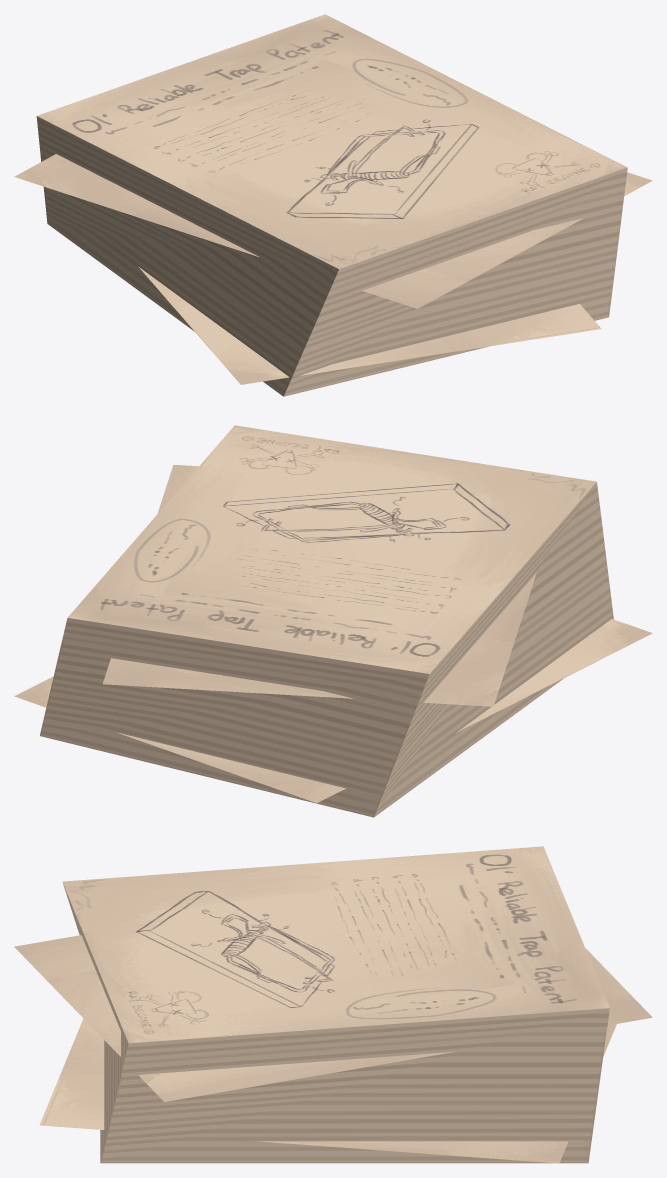
The model's file is paperStack_UVs.fbx.
3 views of the same model, one above another, from view 1: azimuth 30°, elevation 25°; view 2: azimuth 150°, elevation 25°; view 3: azimuth 270°, elevation 25° (orthographic). The views are drawn at different scales.
Visible parts, largest first — view 1: Paper_Stack; view 2: Paper_Stack; view 3: Paper_Stack.
Part boxes in pixels (left/top/right/bottom): Paper_Stack: left=14, top=14, right=652, bottom=396; Paper_Stack: left=14, top=425, right=652, bottom=817; Paper_Stack: left=14, top=846, right=652, bottom=1163.
Bounding box in the file's own units: 60.29 × 15.97 × 67.87.
